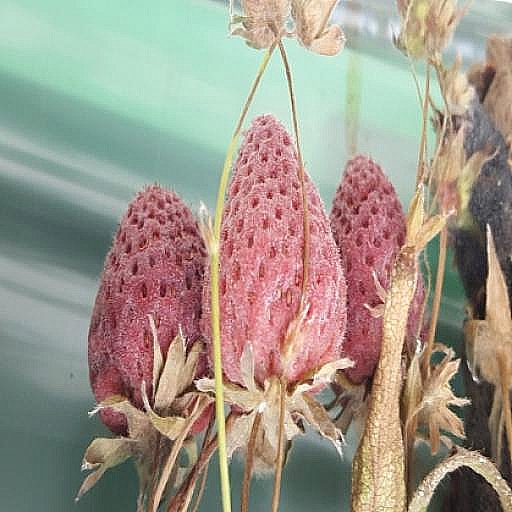Powdery Mildew Fruit: (165, 83, 312, 400), (290, 68, 424, 331), (83, 125, 185, 356)
